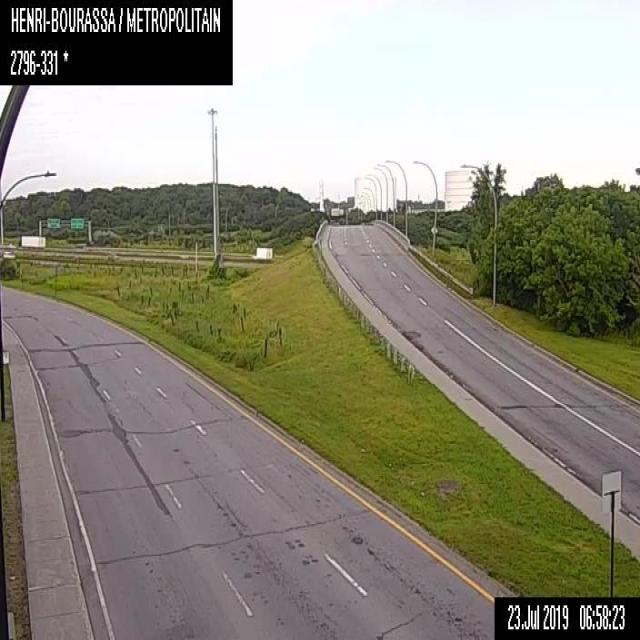vehicle: (17, 233, 45, 246), (249, 245, 272, 259)
